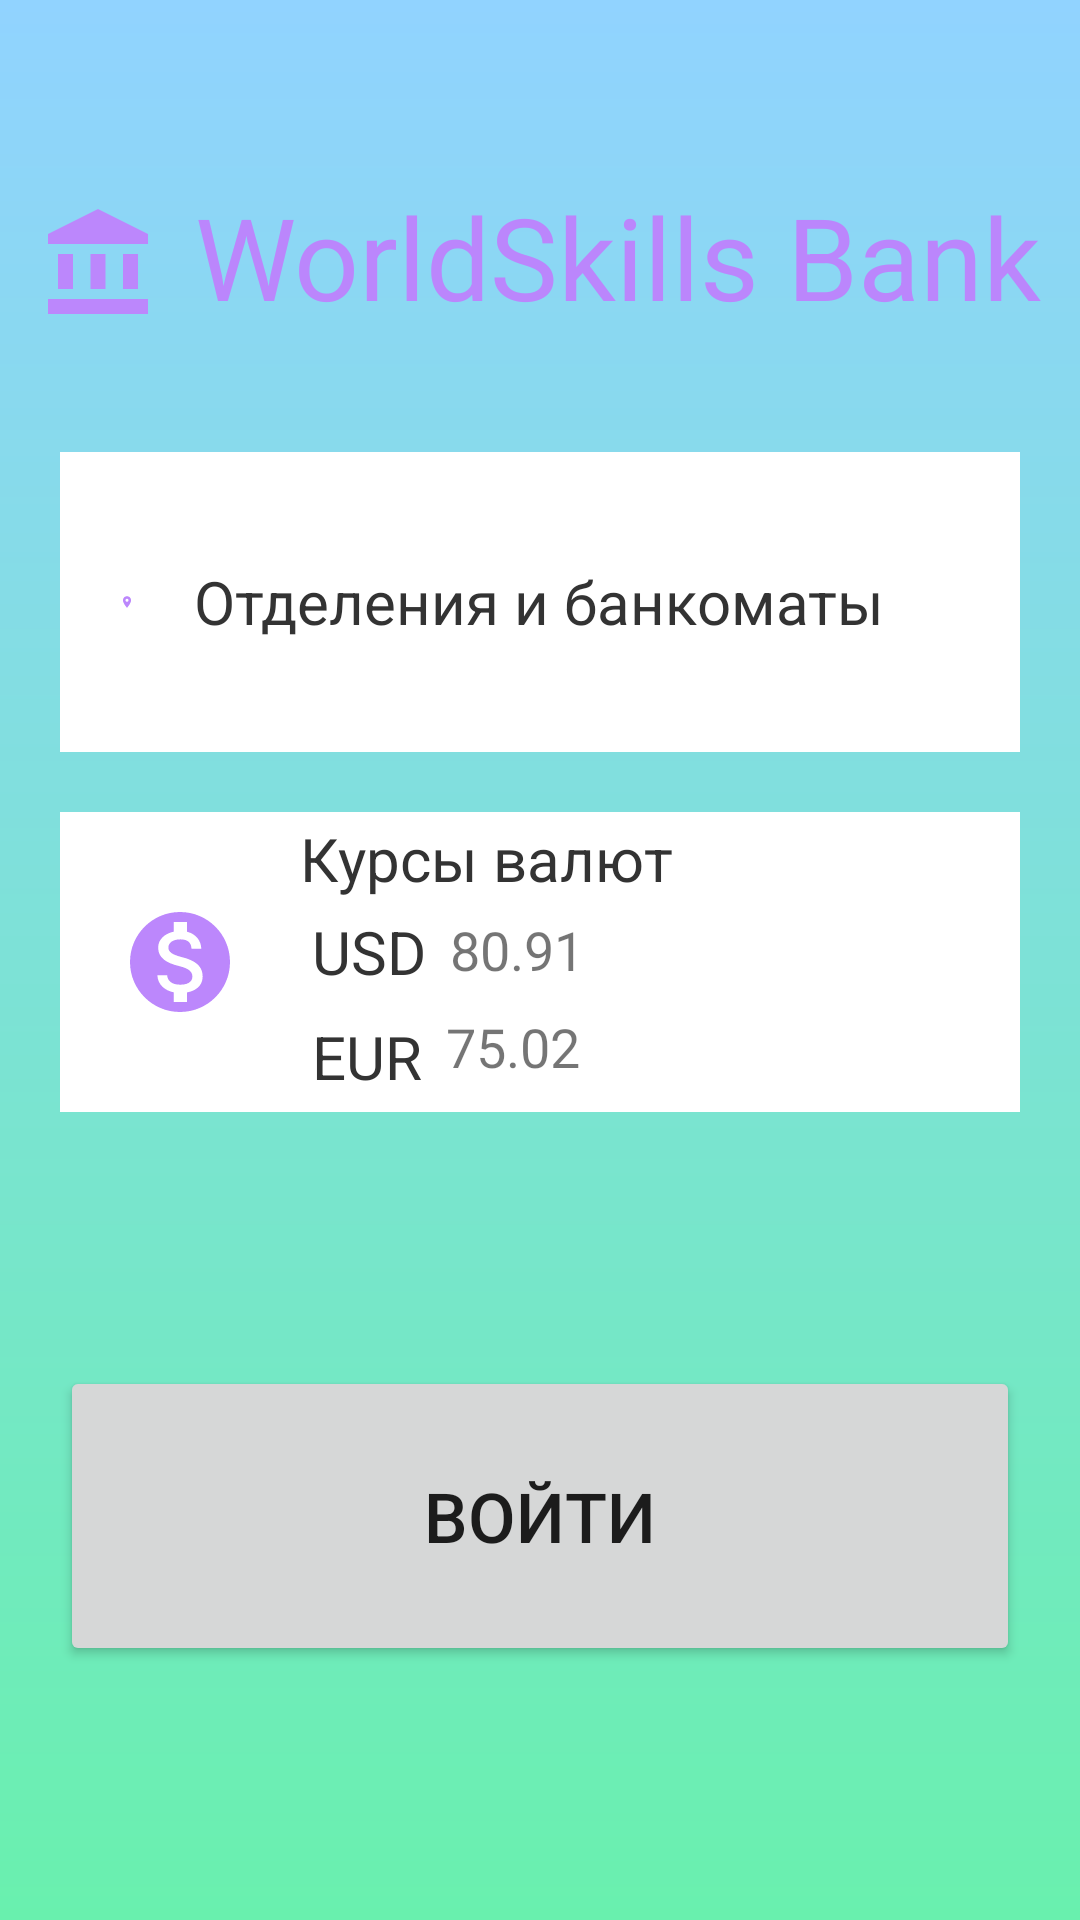

Icon click points for this 1080px x 1920px phone screenshot, format (x=x, y=y):
monetization: (x=180, y=962)
